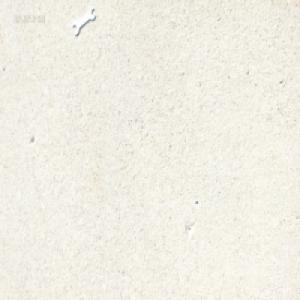Wrench: (72, 12, 95, 40)
